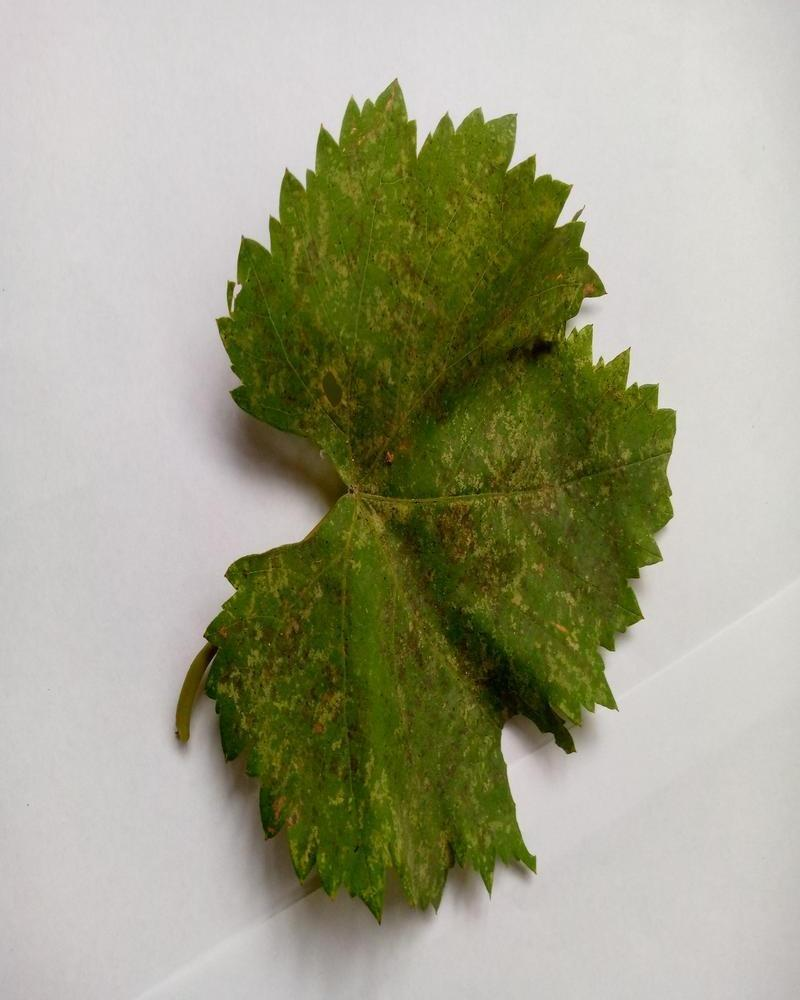Powdery-Mildew: (394, 311, 539, 436), (415, 450, 548, 586), (391, 140, 511, 276), (226, 602, 338, 722), (299, 351, 362, 414), (383, 795, 446, 858)
